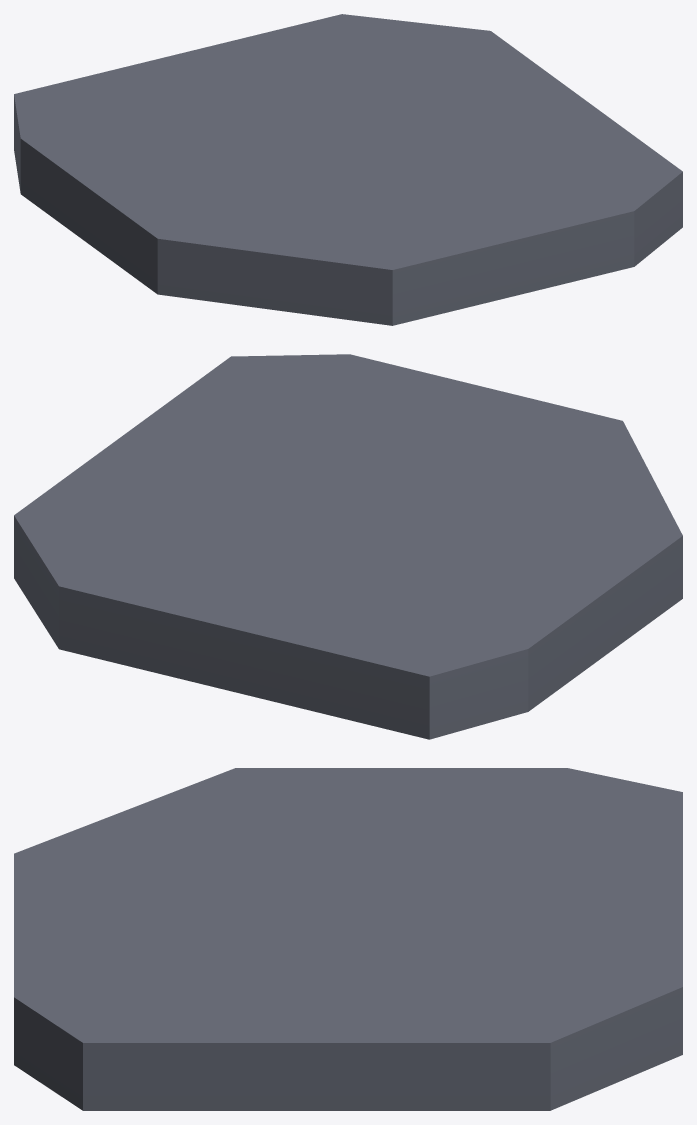
File: Tile_02.fbx
3 renders of one model, top to bottom at view 1: azimuth 30°, elevation 25°; view 2: azimuth 150°, elevation 25°; view 3: azimuth 270°, elevation 25°, orthographic. The views are drawn at different scales.
Visible parts, largest first — view 1: Tile_02; view 2: Tile_02; view 3: Tile_02.
Boxes of the visible parts, x1,y1,x2,y2 form: Tile_02: (14, 14, 682, 325); Tile_02: (14, 354, 682, 739); Tile_02: (14, 768, 682, 1110).
Bounding box in the file's own units: 0.448 × 0.0516 × 0.4609.
